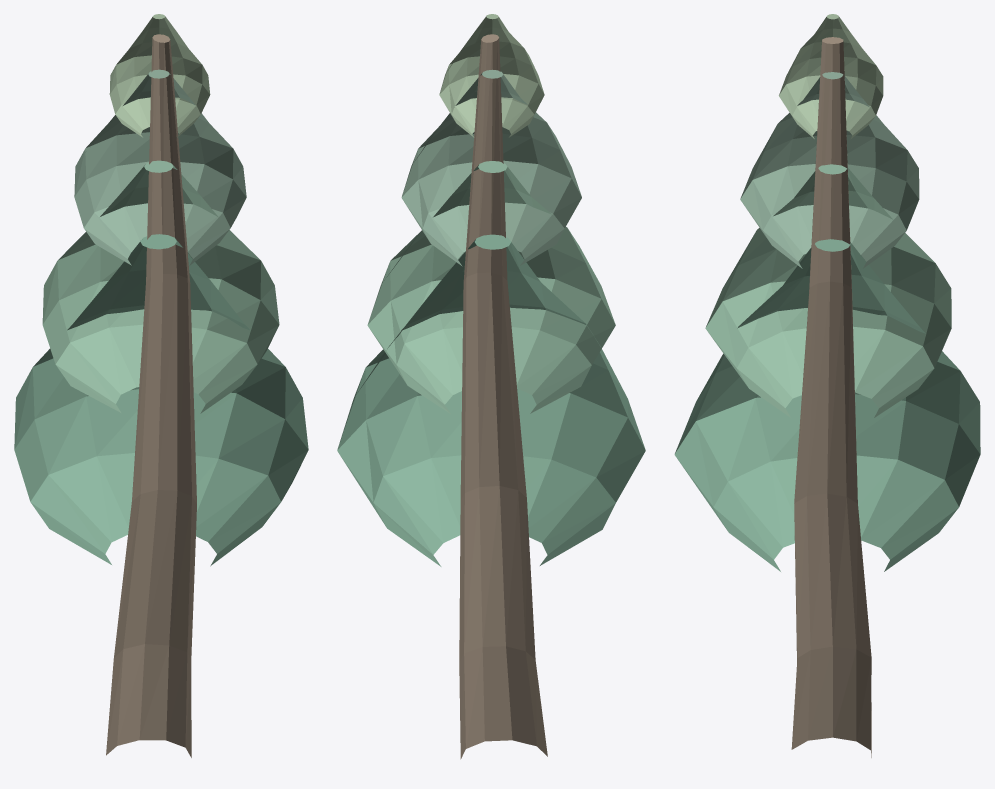
Rendered from pine_1000_3.glb.
The picture shows the model from 3 angles, left to right: view 1: azimuth 30°, elevation 25°; view 2: azimuth 150°, elevation 25°; view 3: azimuth 270°, elevation 25°; orthographic projection.
Visible parts, largest first — view 1: pine_1000_3_1, pine_1000_3_0, pine_1000_3_2, pine_1000_3_3, pine_1000_3_4; view 2: pine_1000_3_1, pine_1000_3_0, pine_1000_3_2, pine_1000_3_3, pine_1000_3_4; view 3: pine_1000_3_1, pine_1000_3_0, pine_1000_3_2, pine_1000_3_3, pine_1000_3_4.
Boxes of the visible parts, x1=… form: pine_1000_3_1: x1=14, y1=234, x2=308, y2=566; pine_1000_3_0: x1=106, y1=34, x2=196, y2=757; pine_1000_3_2: x1=42, y1=160, x2=279, y2=413; pine_1000_3_3: x1=74, y1=69, x2=246, y2=265; pine_1000_3_4: x1=109, y1=14, x2=210, y2=137; pine_1000_3_1: x1=337, y1=234, x2=645, y2=566; pine_1000_3_0: x1=459, y1=34, x2=547, y2=759; pine_1000_3_2: x1=367, y1=161, x2=615, y2=413; pine_1000_3_3: x1=401, y1=69, x2=581, y2=266; pine_1000_3_4: x1=439, y1=14, x2=544, y2=137; pine_1000_3_1: x1=674, y1=239, x2=980, y2=571; pine_1000_3_0: x1=791, y1=37, x2=871, y2=757; pine_1000_3_2: x1=705, y1=164, x2=951, y2=417; pine_1000_3_3: x1=740, y1=72, x2=919, y2=268; pine_1000_3_4: x1=779, y1=14, x2=883, y2=139.
Size of the model in its own units: 1.07 by 2.95 by 1.1.
